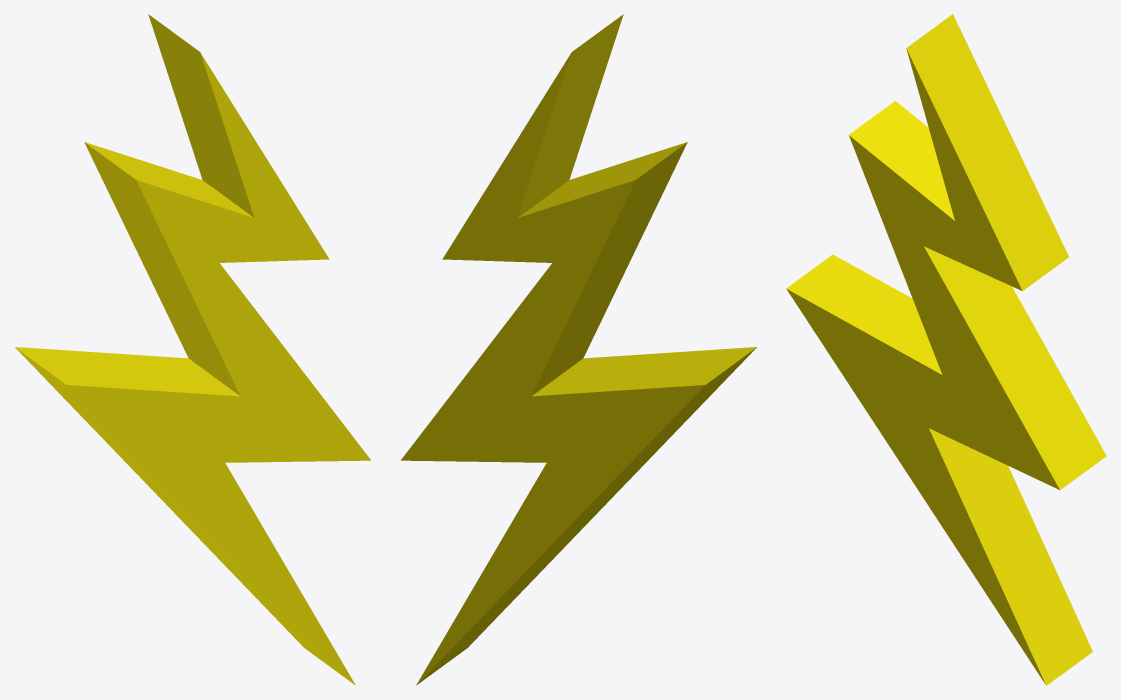
3 renders of one model, left to right at view 1: azimuth 30°, elevation 25°; view 2: azimuth 150°, elevation 25°; view 3: azimuth 330°, elevation 25°, orthographic. The views are drawn at different scales.
Visible parts, largest first — view 1: node_id29; view 2: node_id29; view 3: node_id29.
Part boxes in pixels (<box>): node_id29: <box>15,14,370,685</box>; node_id29: <box>401,14,756,685</box>; node_id29: <box>786,14,1106,685</box>.
Size of the model in its own units: 9.69 by 20.4 by 2.86.
